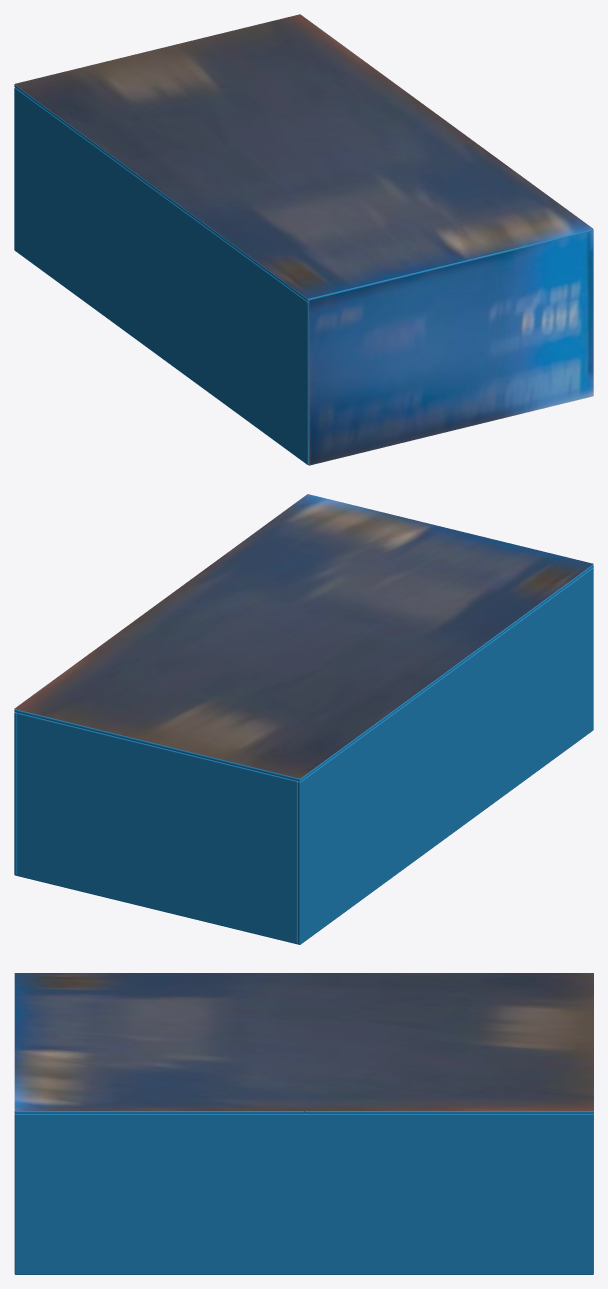
The model's file is pantry_contents__blue_flat_carton.glb.
3 renders of one model, top to bottom at view 1: azimuth 30°, elevation 25°; view 2: azimuth 150°, elevation 25°; view 3: azimuth 270°, elevation 25°, orthographic.
Visible parts, largest first — view 1: blue_flat_carton__body, blue_flat_carton__flap_front; view 2: blue_flat_carton__body, blue_flat_carton__flap_front, blue_flat_carton__flap_back; view 3: blue_flat_carton__body, blue_flat_carton__flap_front, blue_flat_carton__flap_right, blue_flat_carton__flap_back.
Part boxes in pixels (x1,y1,x2,y2): blue_flat_carton__body: (14, 88, 593, 465); blue_flat_carton__flap_front: (14, 14, 593, 301); blue_flat_carton__body: (14, 567, 593, 944); blue_flat_carton__flap_front: (14, 494, 593, 778); blue_flat_carton__flap_back: (14, 672, 446, 781); blue_flat_carton__body: (14, 1113, 593, 1274); blue_flat_carton__flap_front: (14, 973, 593, 1113); blue_flat_carton__flap_right: (21, 1115, 586, 1116); blue_flat_carton__flap_back: (304, 1111, 593, 1113).
Bounding box in the file's own units: 0.0816 × 0.0454 × 0.1452.
Materials: 3 (2 with a texture image).
